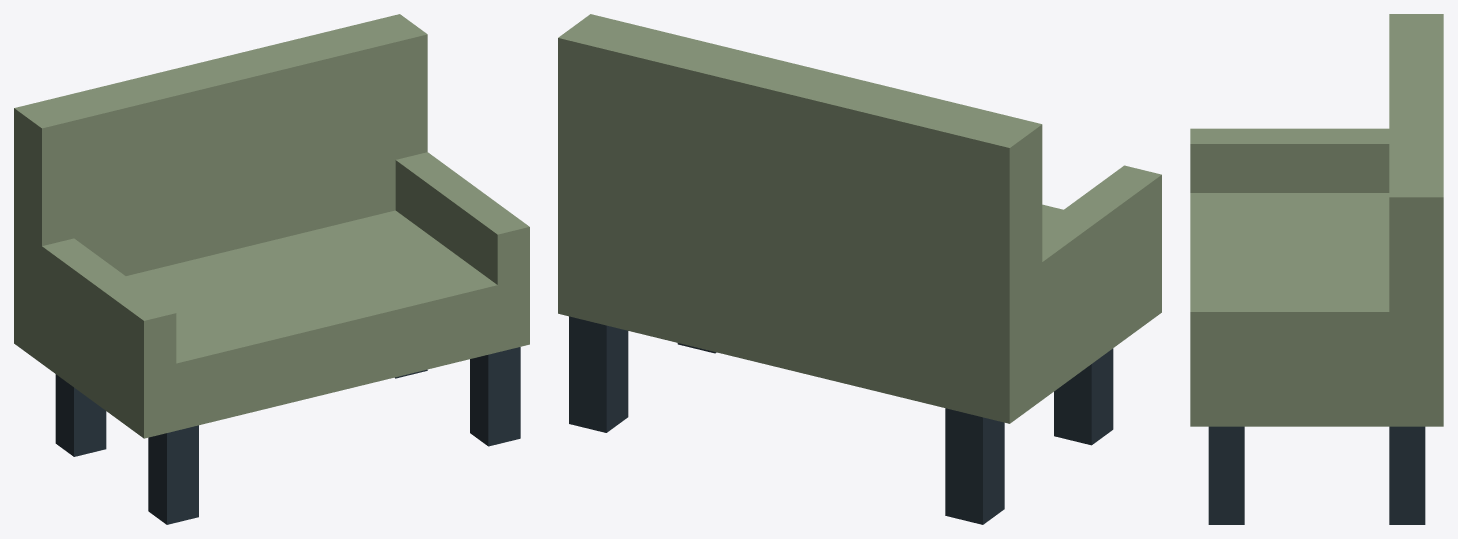
File: productivity-19.glb
The picture shows the model from 3 angles, left to right: view 1: azimuth 30°, elevation 25°; view 2: azimuth 150°, elevation 25°; view 3: azimuth 270°, elevation 25°; orthographic projection. The views are drawn at different scales.
Parts seen in each view (by area): view 1: Team sofa; view 2: Team sofa; view 3: Team sofa.
Part boxes in pixels (x1,y1,x2,y2): Team sofa: (14, 14, 529, 524); Team sofa: (558, 14, 1161, 524); Team sofa: (1190, 14, 1443, 524).
Bounding box in the file's own units: 1.92 × 1.6 × 1.12.
